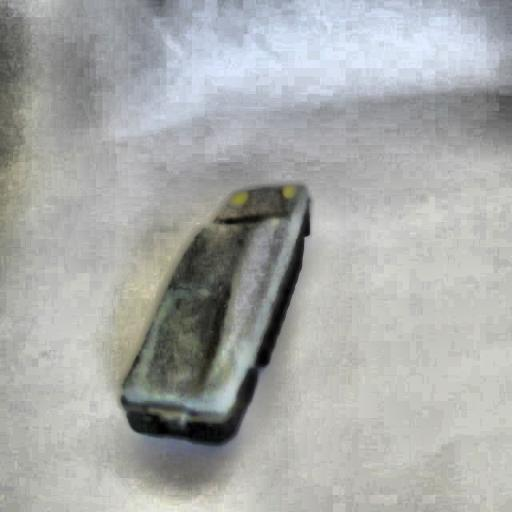normal_car: (115, 180, 315, 450)
